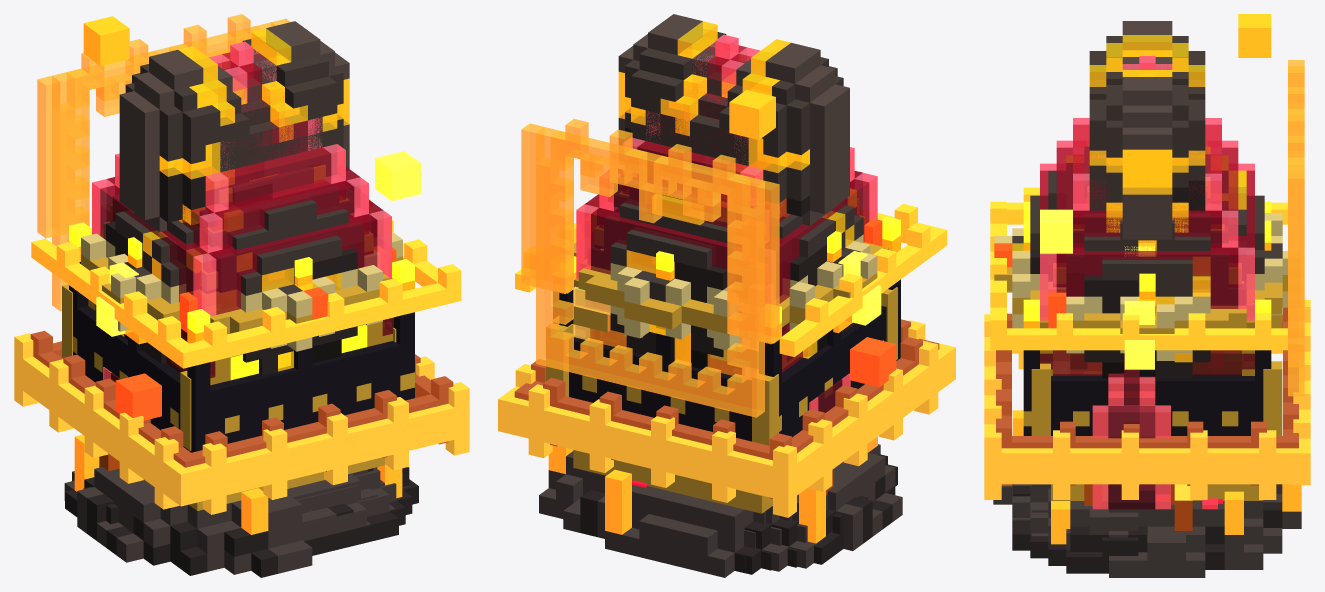
The model's file is Gemas_Zona4.fbx.
3 renders of one model, left to right at view 1: azimuth 30°, elevation 25°; view 2: azimuth 150°, elevation 25°; view 3: azimuth 270°, elevation 25°, orthographic. The views are drawn at different scales.
Visible parts, largest first — view 1: OjodeDragon__Anillo, CoronaIgnea__Obsidiana, NucleodeMagma__RocaClara, CorazondelVolcan__Anillo, CorazondelVolcan__RocaClara, CoronaIgnea__Rubi, CoronaIgnea__Halo, OpalodeFuego__Roca, CorazondelVolcan__Faceta, CorazondelVolcan__Halo, CoronaIgnea__Faceta, LlamaViva__Anillo (+23 smaller); view 2: CorazondelVolcan__Halo, OjodeDragon__Anillo, CoronaIgnea__Halo, OpalodeFuego__Roca, CoronaIgnea__Obsidiana, CorazondelVolcan__RocaClara, CorazondelVolcan__Faceta, NucleodeMagma__RocaClara, OpalodeFuego__Oro, CoronaIgnea__Rubi, CorazondelVolcan__Anillo, LlamaViva__Anillo (+21 smaller); view 3: OjodeDragon__Anillo, NucleodeMagma__RocaClara, CoronaIgnea__Rubi, OpalodeFuego__Roca, CorazondelVolcan__Anillo, CorazondelVolcan__RocaClara, CoronaIgnea__Obsidiana, CorazondelVolcan__Faceta, CorazondelVolcan__Lava, CoronaIgnea__Faceta, LlamaViva__Anillo, NucleodeMagma__Remache (+28 smaller).
Part boxes in pixels (x1,y1,x2,y2): OjodeDragon__Anillo: (14, 333, 469, 514); CoronaIgnea__Obsidiana: (69, 262, 414, 452); NucleodeMagma__RocaClara: (113, 167, 370, 295); CorazondelVolcan__Anillo: (31, 220, 461, 368); CorazondelVolcan__RocaClara: (125, 39, 343, 176); CoronaIgnea__Rubi: (100, 167, 383, 314); CoronaIgnea__Halo: (37, 14, 290, 238); OpalodeFuego__Roca: (64, 467, 409, 574); CorazondelVolcan__Faceta: (119, 21, 349, 231); CorazondelVolcan__Halo: (52, 22, 275, 311); CoronaIgnea__Faceta: (92, 41, 391, 316); LlamaViva__Anillo: (30, 330, 453, 496); CorazondelVolcan__Halo: (536, 127, 764, 417); OjodeDragon__Anillo: (498, 320, 955, 517); CoronaIgnea__Halo: (521, 119, 779, 344); OpalodeFuego__Roca: (539, 444, 902, 577); CoronaIgnea__Obsidiana: (553, 279, 900, 441); CorazondelVolcan__RocaClara: (625, 32, 843, 203); CorazondelVolcan__Faceta: (618, 14, 849, 225); NucleodeMagma__RocaClara: (588, 184, 863, 301); OpalodeFuego__Oro: (546, 287, 897, 513); CoronaIgnea__Rubi: (585, 169, 869, 303); CorazondelVolcan__Anillo: (515, 204, 947, 356); LlamaViva__Anillo: (514, 319, 939, 498); OjodeDragon__Anillo: (984, 300, 1310, 499); NucleodeMagma__RocaClara: (1012, 147, 1282, 305); CoronaIgnea__Rubi: (1040, 147, 1254, 308); OpalodeFuego__Roca: (993, 484, 1301, 577); CorazondelVolcan__Anillo: (990, 187, 1287, 350); CorazondelVolcan__RocaClara: (1089, 36, 1205, 210); CoronaIgnea__Obsidiana: (1023, 307, 1271, 435); CorazondelVolcan__Faceta: (1122, 21, 1172, 239); CorazondelVolcan__Lava: (1089, 35, 1205, 245); CoronaIgnea__Faceta: (1040, 56, 1254, 320); LlamaViva__Anillo: (996, 307, 1298, 485); NucleodeMagma__Remache: (994, 213, 1287, 360).
Size of the model in its own units: 0.9256 by 1.4 by 0.9208.
